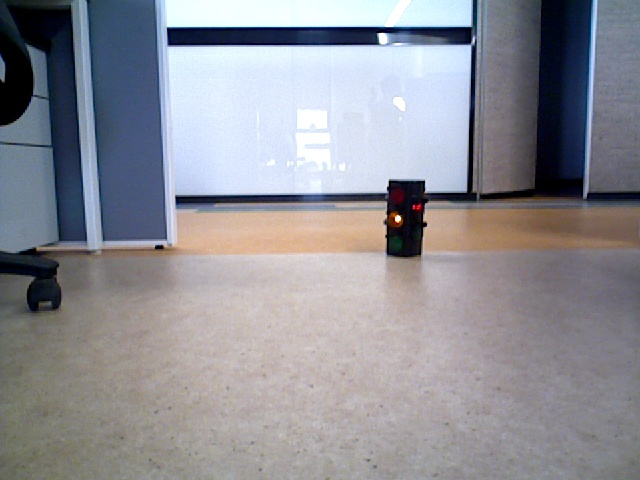yellow: (388, 180, 420, 254)
